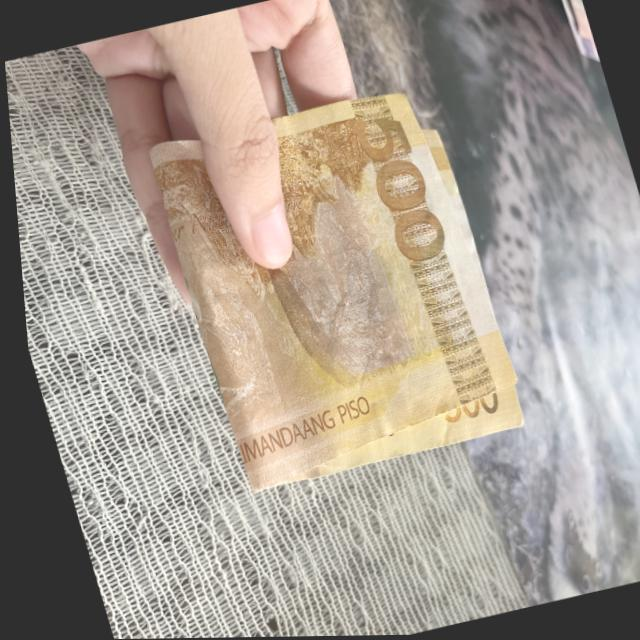value: (347, 105, 452, 279)
